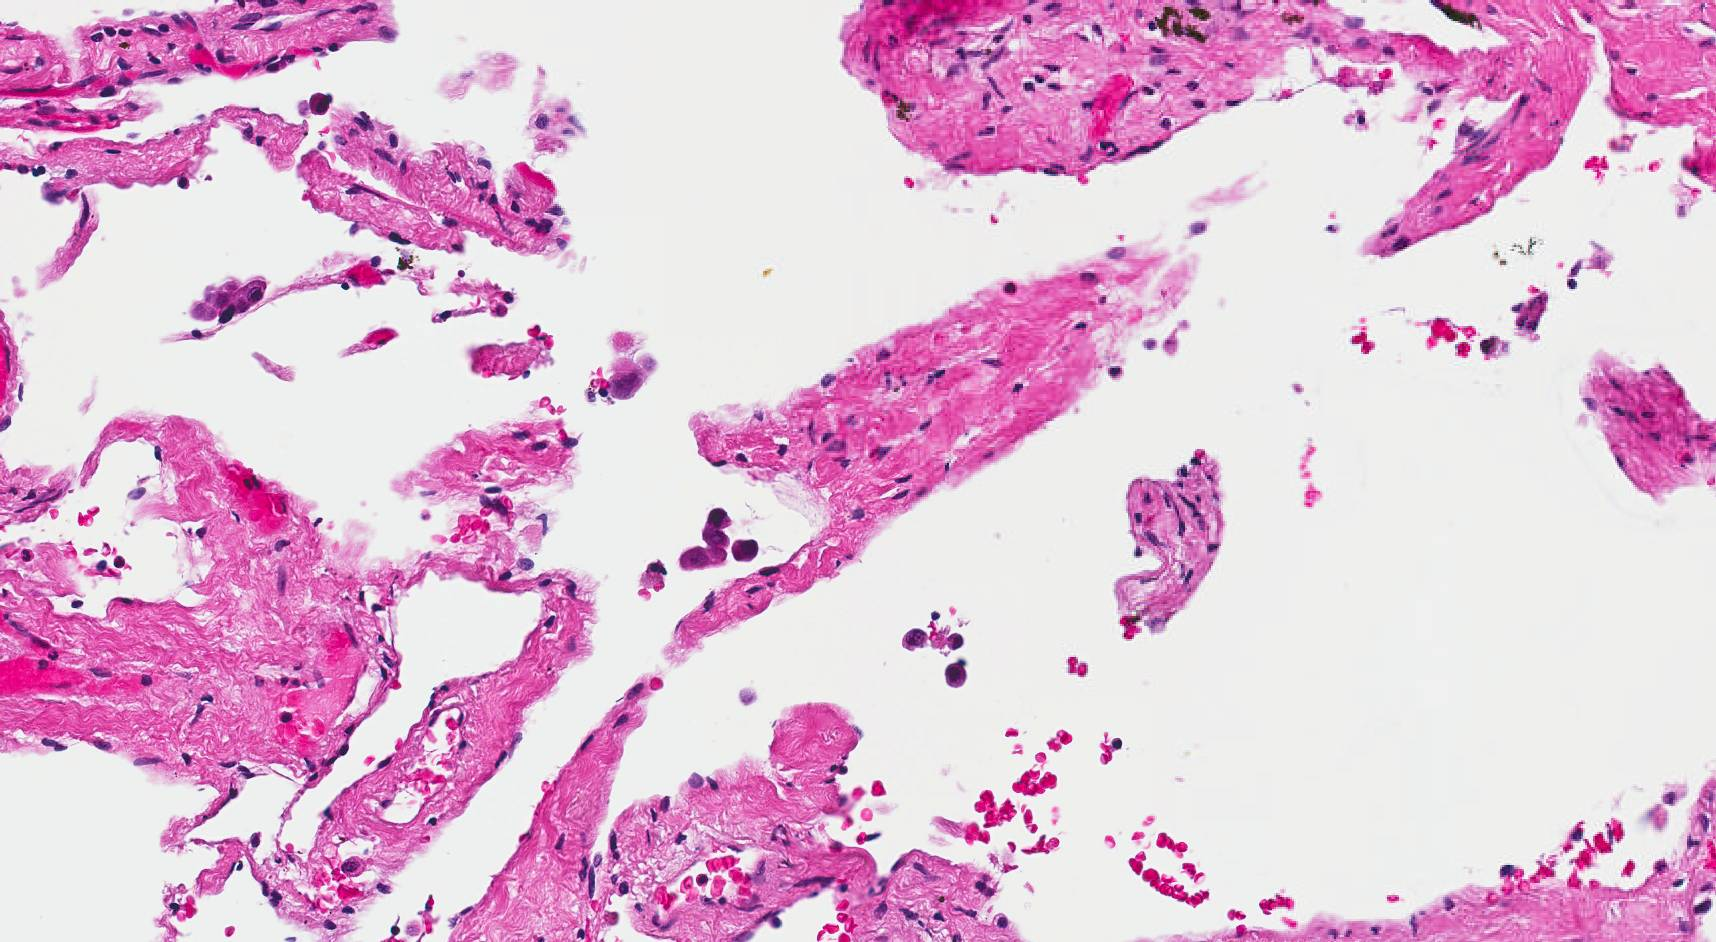stas: (675, 505, 762, 573), (188, 278, 272, 324), (899, 623, 932, 652)
